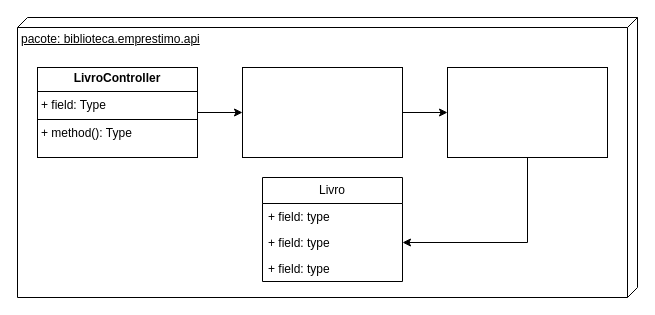
Some shapes in this 655 by 315 pixel diagram are drawn without their labels. The shapes that lost their labels are listed below. From the top down, each one's centre as x and y in pixels, then its label:
At pixel 322 112: "LivroService + field: Type + method(): Type".
At pixel 527 112: "LivroRepository + field: Type + method(): Type".
